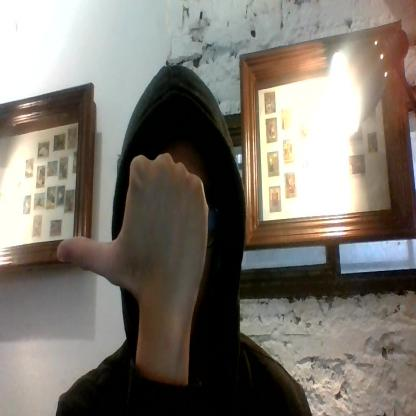right: (56, 151, 209, 314)
